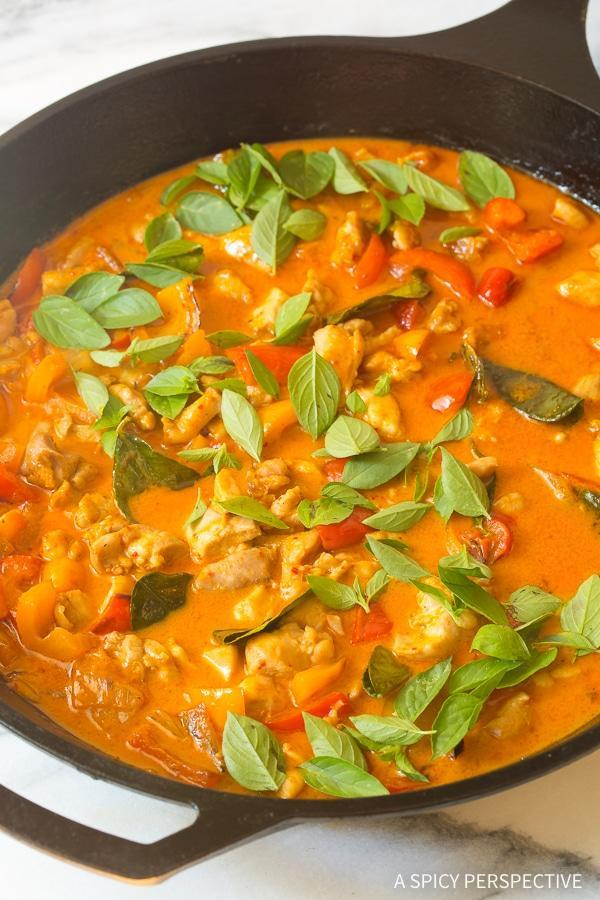chicken: (55, 181, 565, 795)
